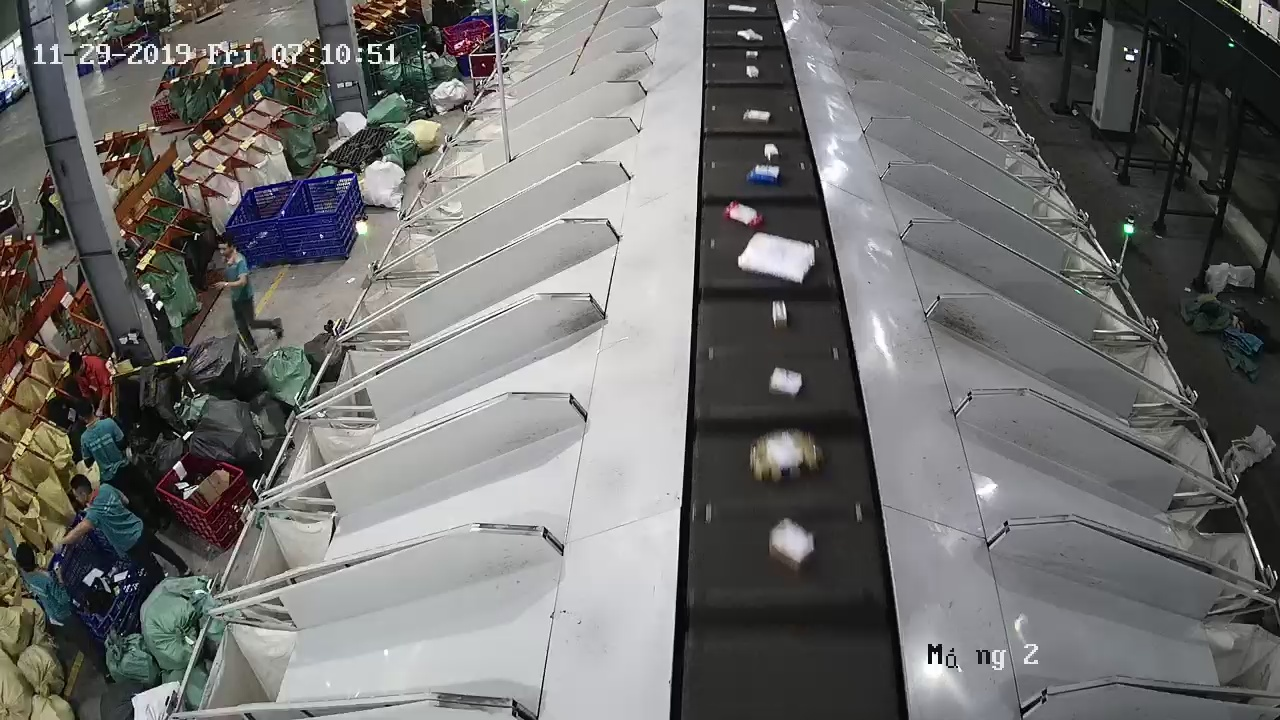parcel: (749, 428, 825, 485), (737, 231, 816, 285), (768, 518, 815, 573), (723, 200, 765, 230), (768, 367, 802, 400), (746, 163, 781, 186), (771, 299, 788, 329), (742, 108, 771, 125), (764, 143, 780, 162)
